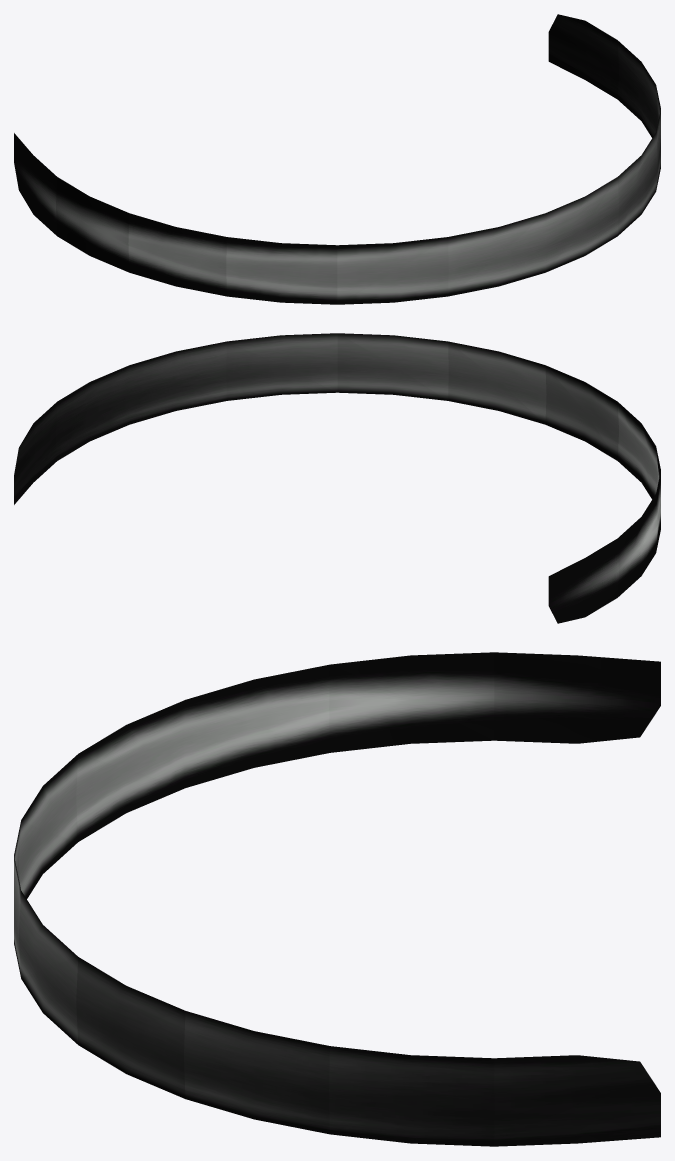
File: E3D-Curve-Surround43.FBX
3 renders of one model, top to bottom at view 1: azimuth 30°, elevation 25°; view 2: azimuth 150°, elevation 25°; view 3: azimuth 270°, elevation 25°, orthographic. The views are drawn at different scales.
Parts seen in each view (by area): view 1: Cylinder001; view 2: Cylinder001; view 3: Cylinder001.
Part boxes in pixels (bbox=[...]): Cylinder001: bbox=[14, 14, 660, 304]; Cylinder001: bbox=[14, 333, 660, 623]; Cylinder001: bbox=[14, 652, 660, 1146].
Bounding box in the file's own units: 1980 × 200 × 1327.
